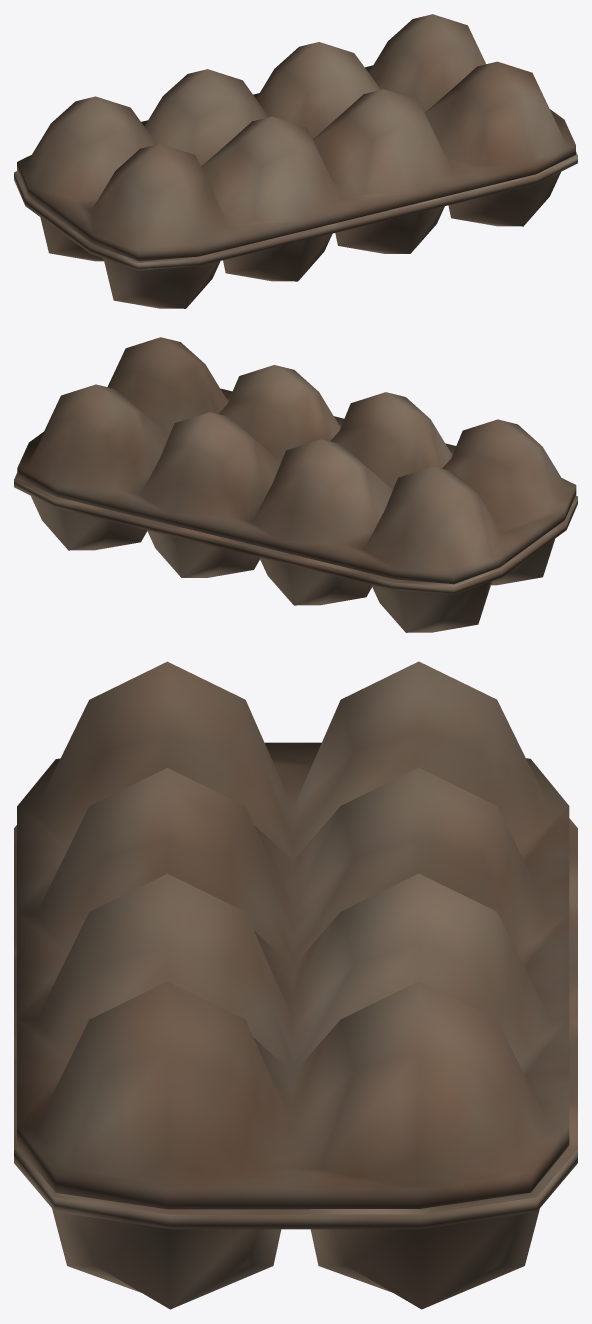
The model's file is SM_Egg.fbx.
The picture shows the model from 3 angles, top to bottom: view 1: azimuth 30°, elevation 25°; view 2: azimuth 150°, elevation 25°; view 3: azimuth 270°, elevation 25°; orthographic projection. The views are drawn at different scales.
Visible parts, largest first — view 1: SM_Egg; view 2: SM_Egg; view 3: SM_Egg.
Boxes of the visible parts, <box> form: SM_Egg: <box>14,14,577,308</box>; SM_Egg: <box>14,337,577,632</box>; SM_Egg: <box>14,661,577,1309</box>.
Bounding box in the file's own units: 102 × 33.93 × 53.92.
